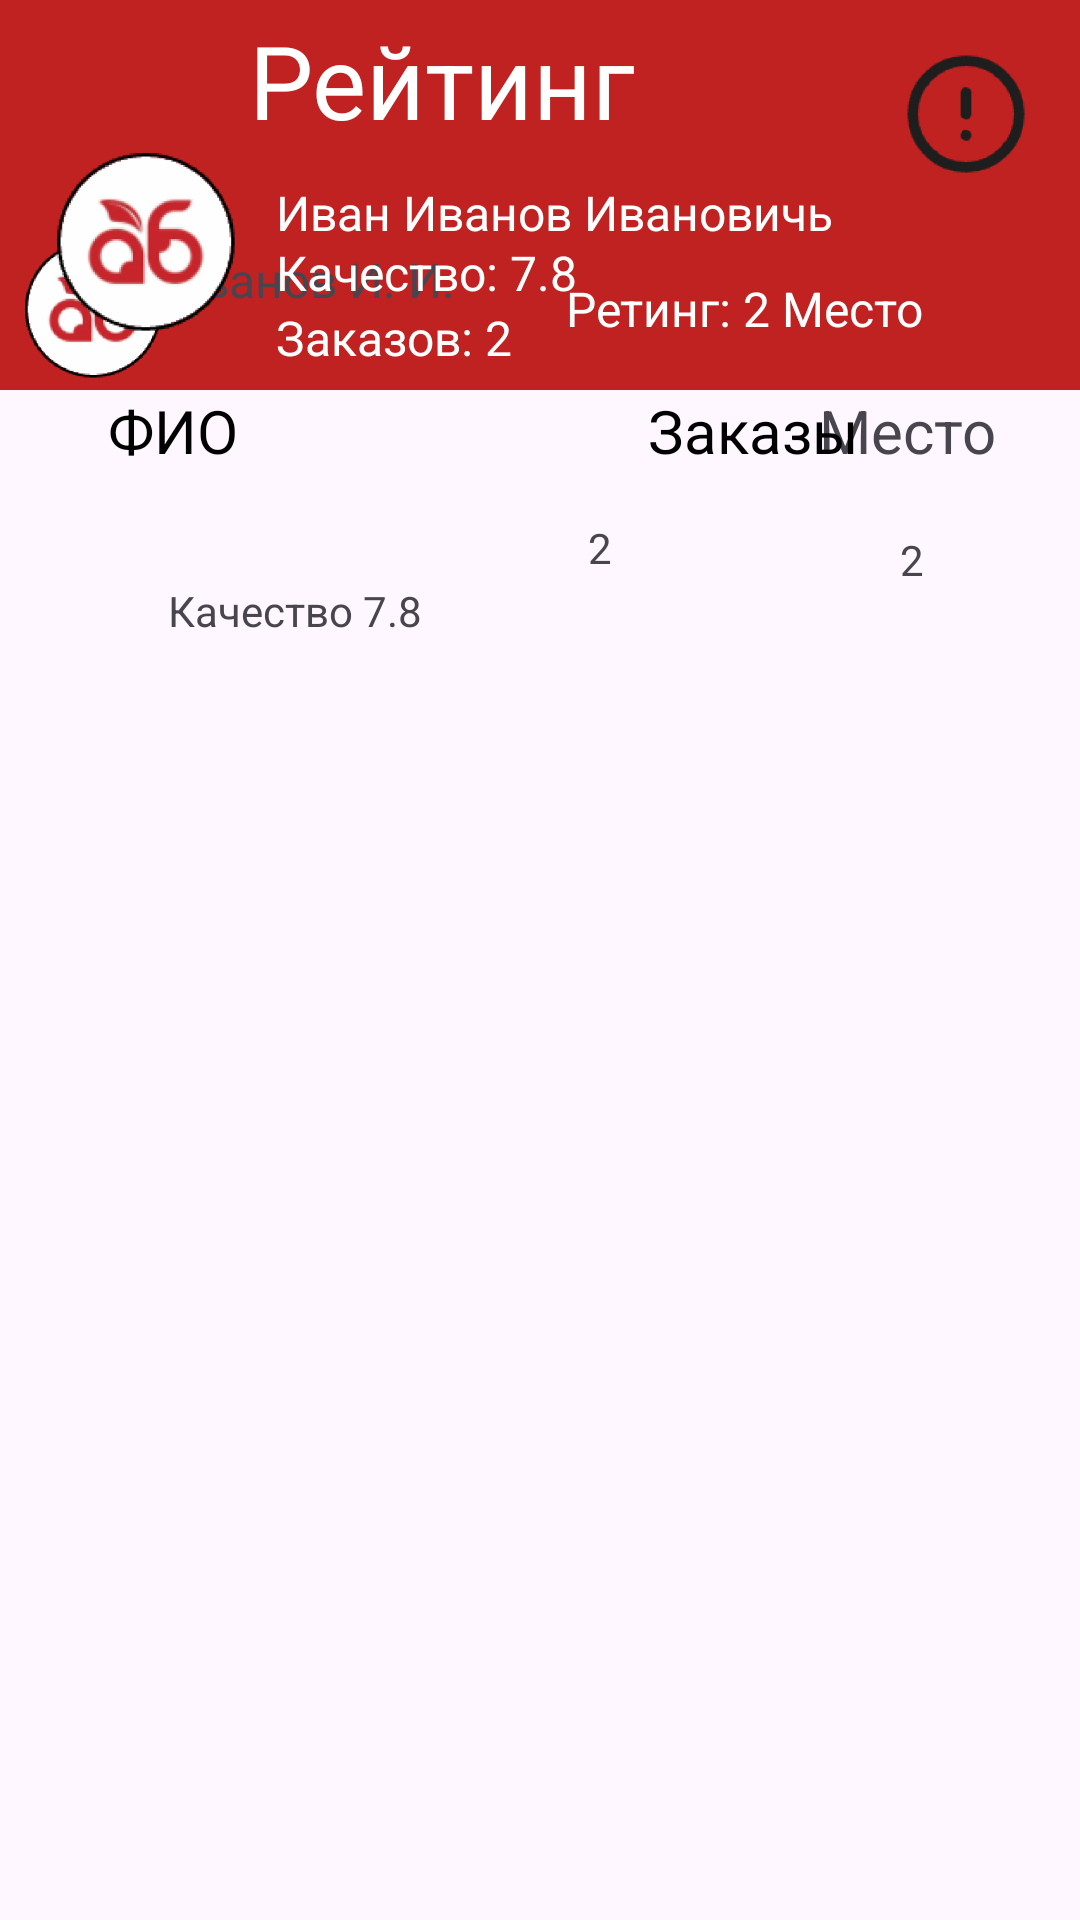

Screen size 1080x1920. Icon name, then its center in pixels as point (x, y):
nfo info: point (966, 114)
